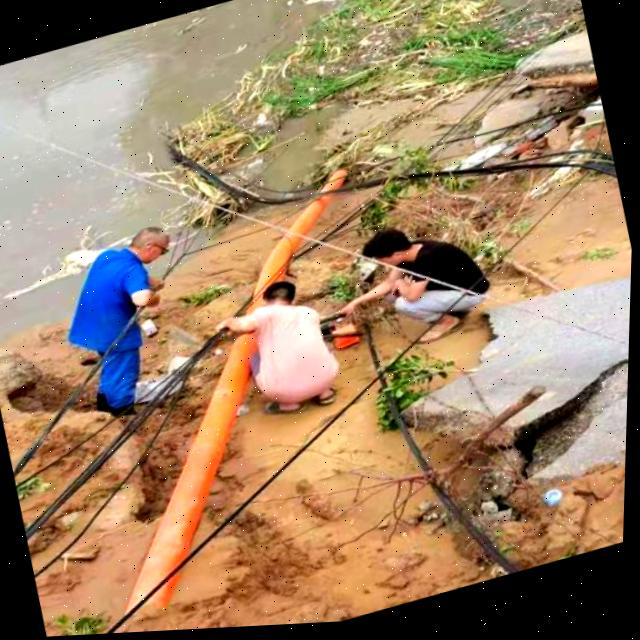civilian: (10, 192, 243, 460), (199, 231, 396, 466), (324, 176, 525, 380)
